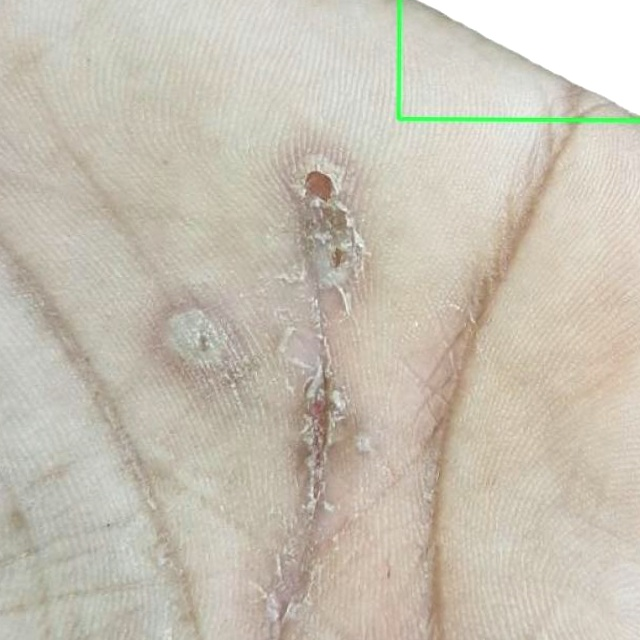Scabies: (398, 0, 639, 120)
